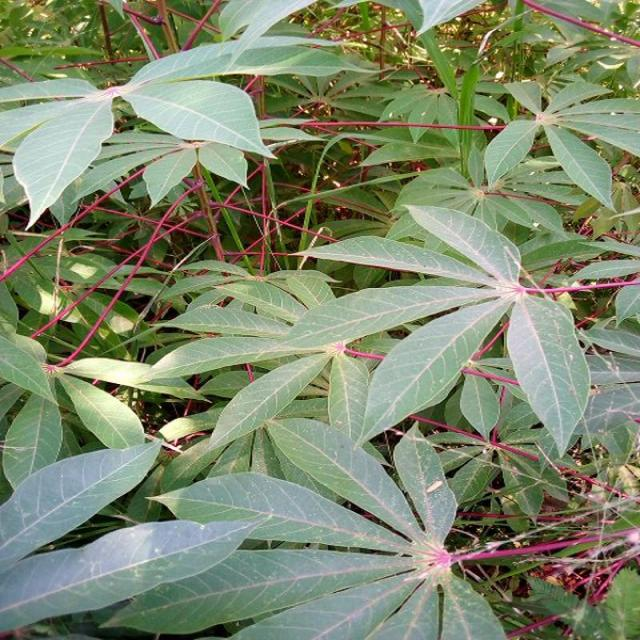cassava leaf: (0, 1, 638, 637), (506, 291, 591, 459), (120, 77, 278, 160)
